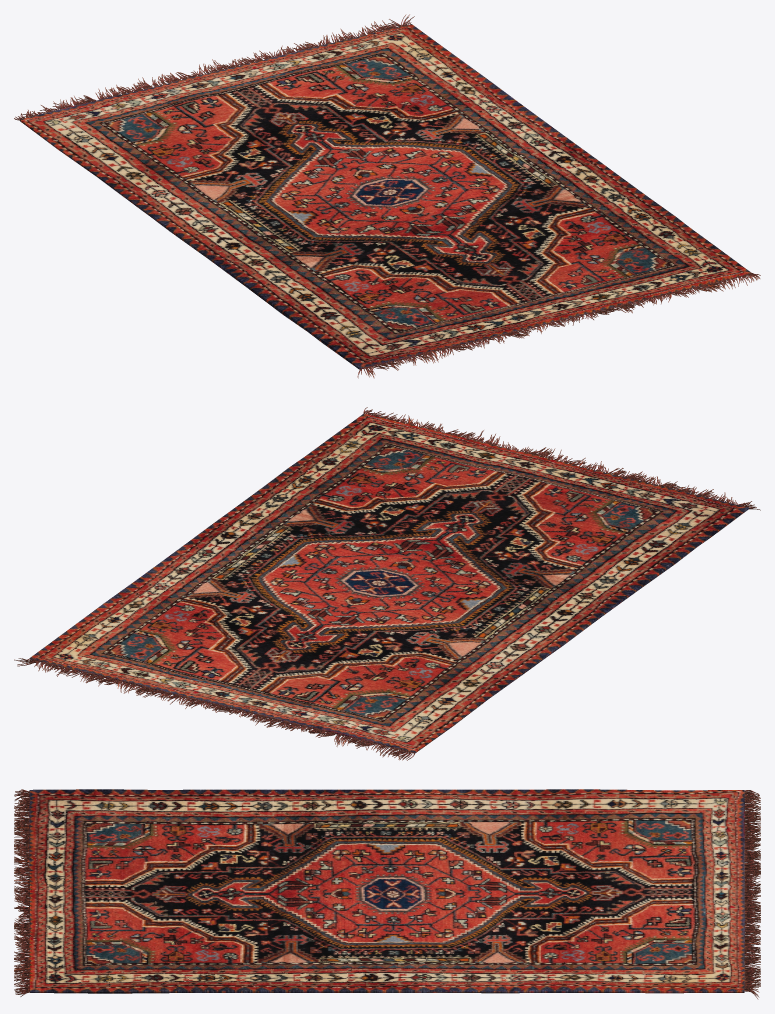
The model's file is carpet.FBX.
The picture shows the model from 3 angles, top to bottom: view 1: azimuth 30°, elevation 25°; view 2: azimuth 150°, elevation 25°; view 3: azimuth 270°, elevation 25°; orthographic projection. The views are drawn at different scales.
Visible parts, largest first — view 1: sub01; view 2: sub01; view 3: sub01.
Part boxes in pixels (x1=…): sub01: x1=14, y1=14, x2=760, y2=378; sub01: x1=14, y1=407, x2=760, y2=760; sub01: x1=14, y1=789, x2=760, y2=999.
Bounding box in the file's own units: 20816 × 695 × 31327.
